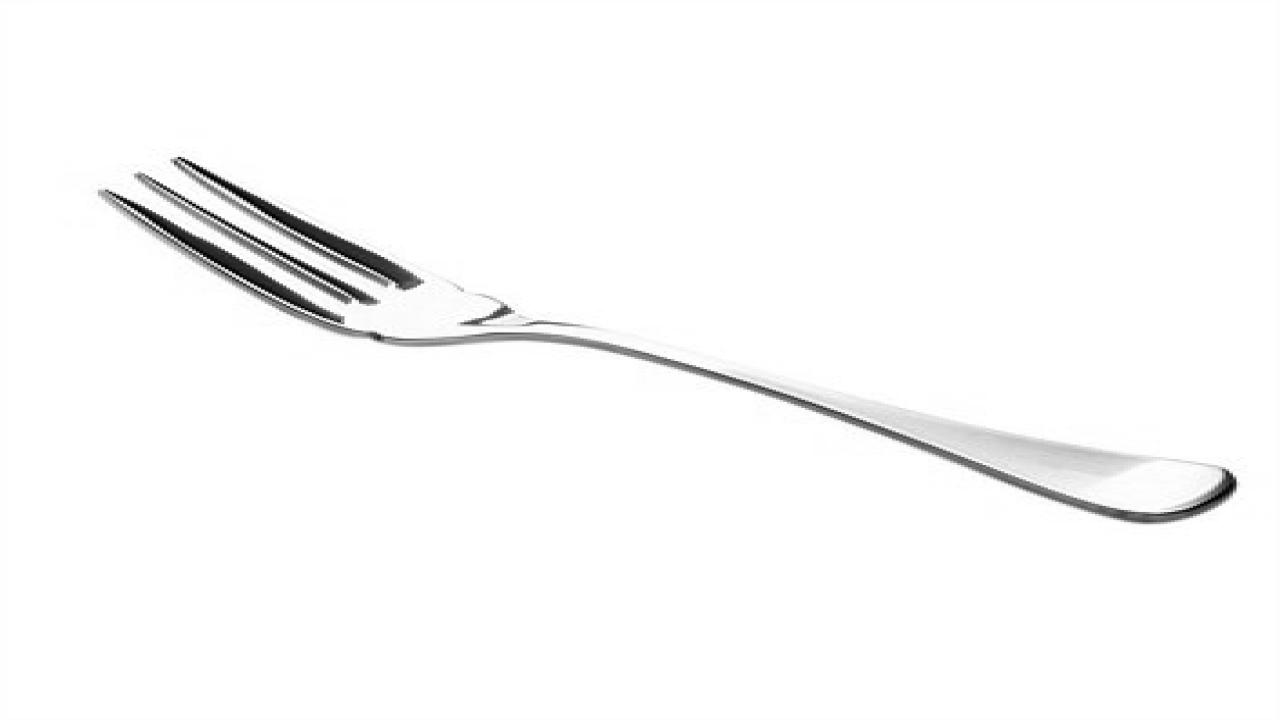fork: (94, 153, 1236, 522)
